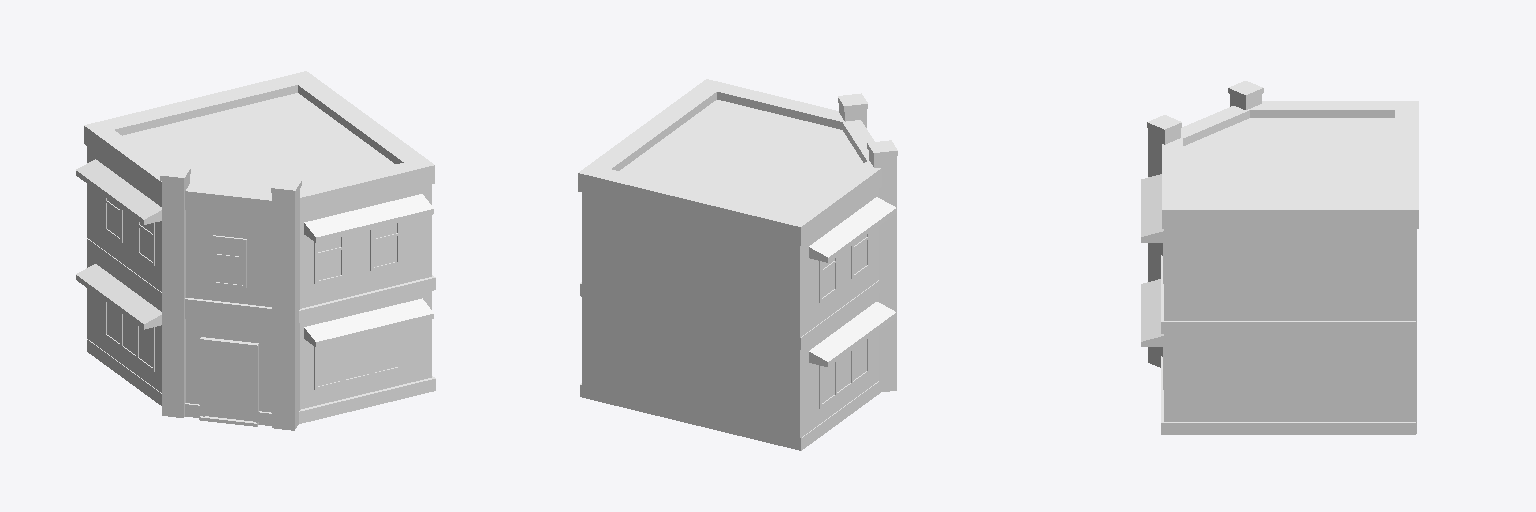
The model's file is Building_Clothing.obj.
The picture shows the model from 3 angles: view 1: azimuth 30°, elevation 25°; view 2: azimuth 150°, elevation 25°; view 3: azimuth 270°, elevation 25°; orthographic projection.
Bounding box in the file's own units: 1213 × 1161 × 1216.